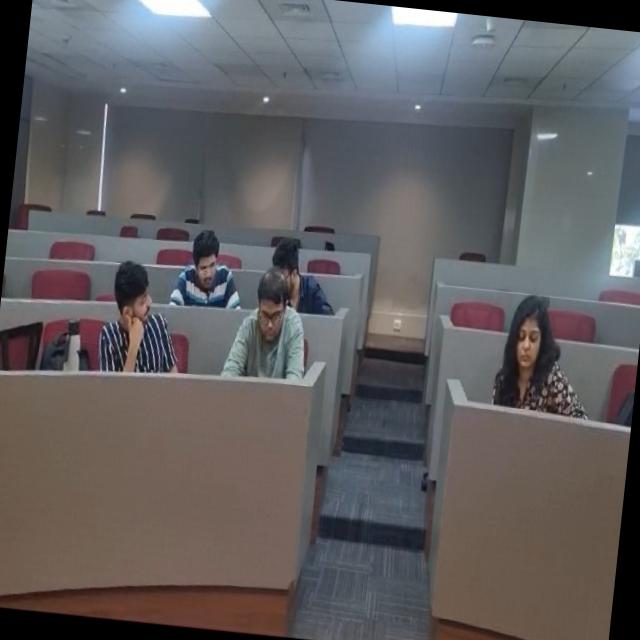cheating: (94, 255, 176, 388), (258, 232, 339, 306)
non-cheating: (490, 273, 582, 412), (222, 272, 318, 384), (173, 224, 240, 311)
